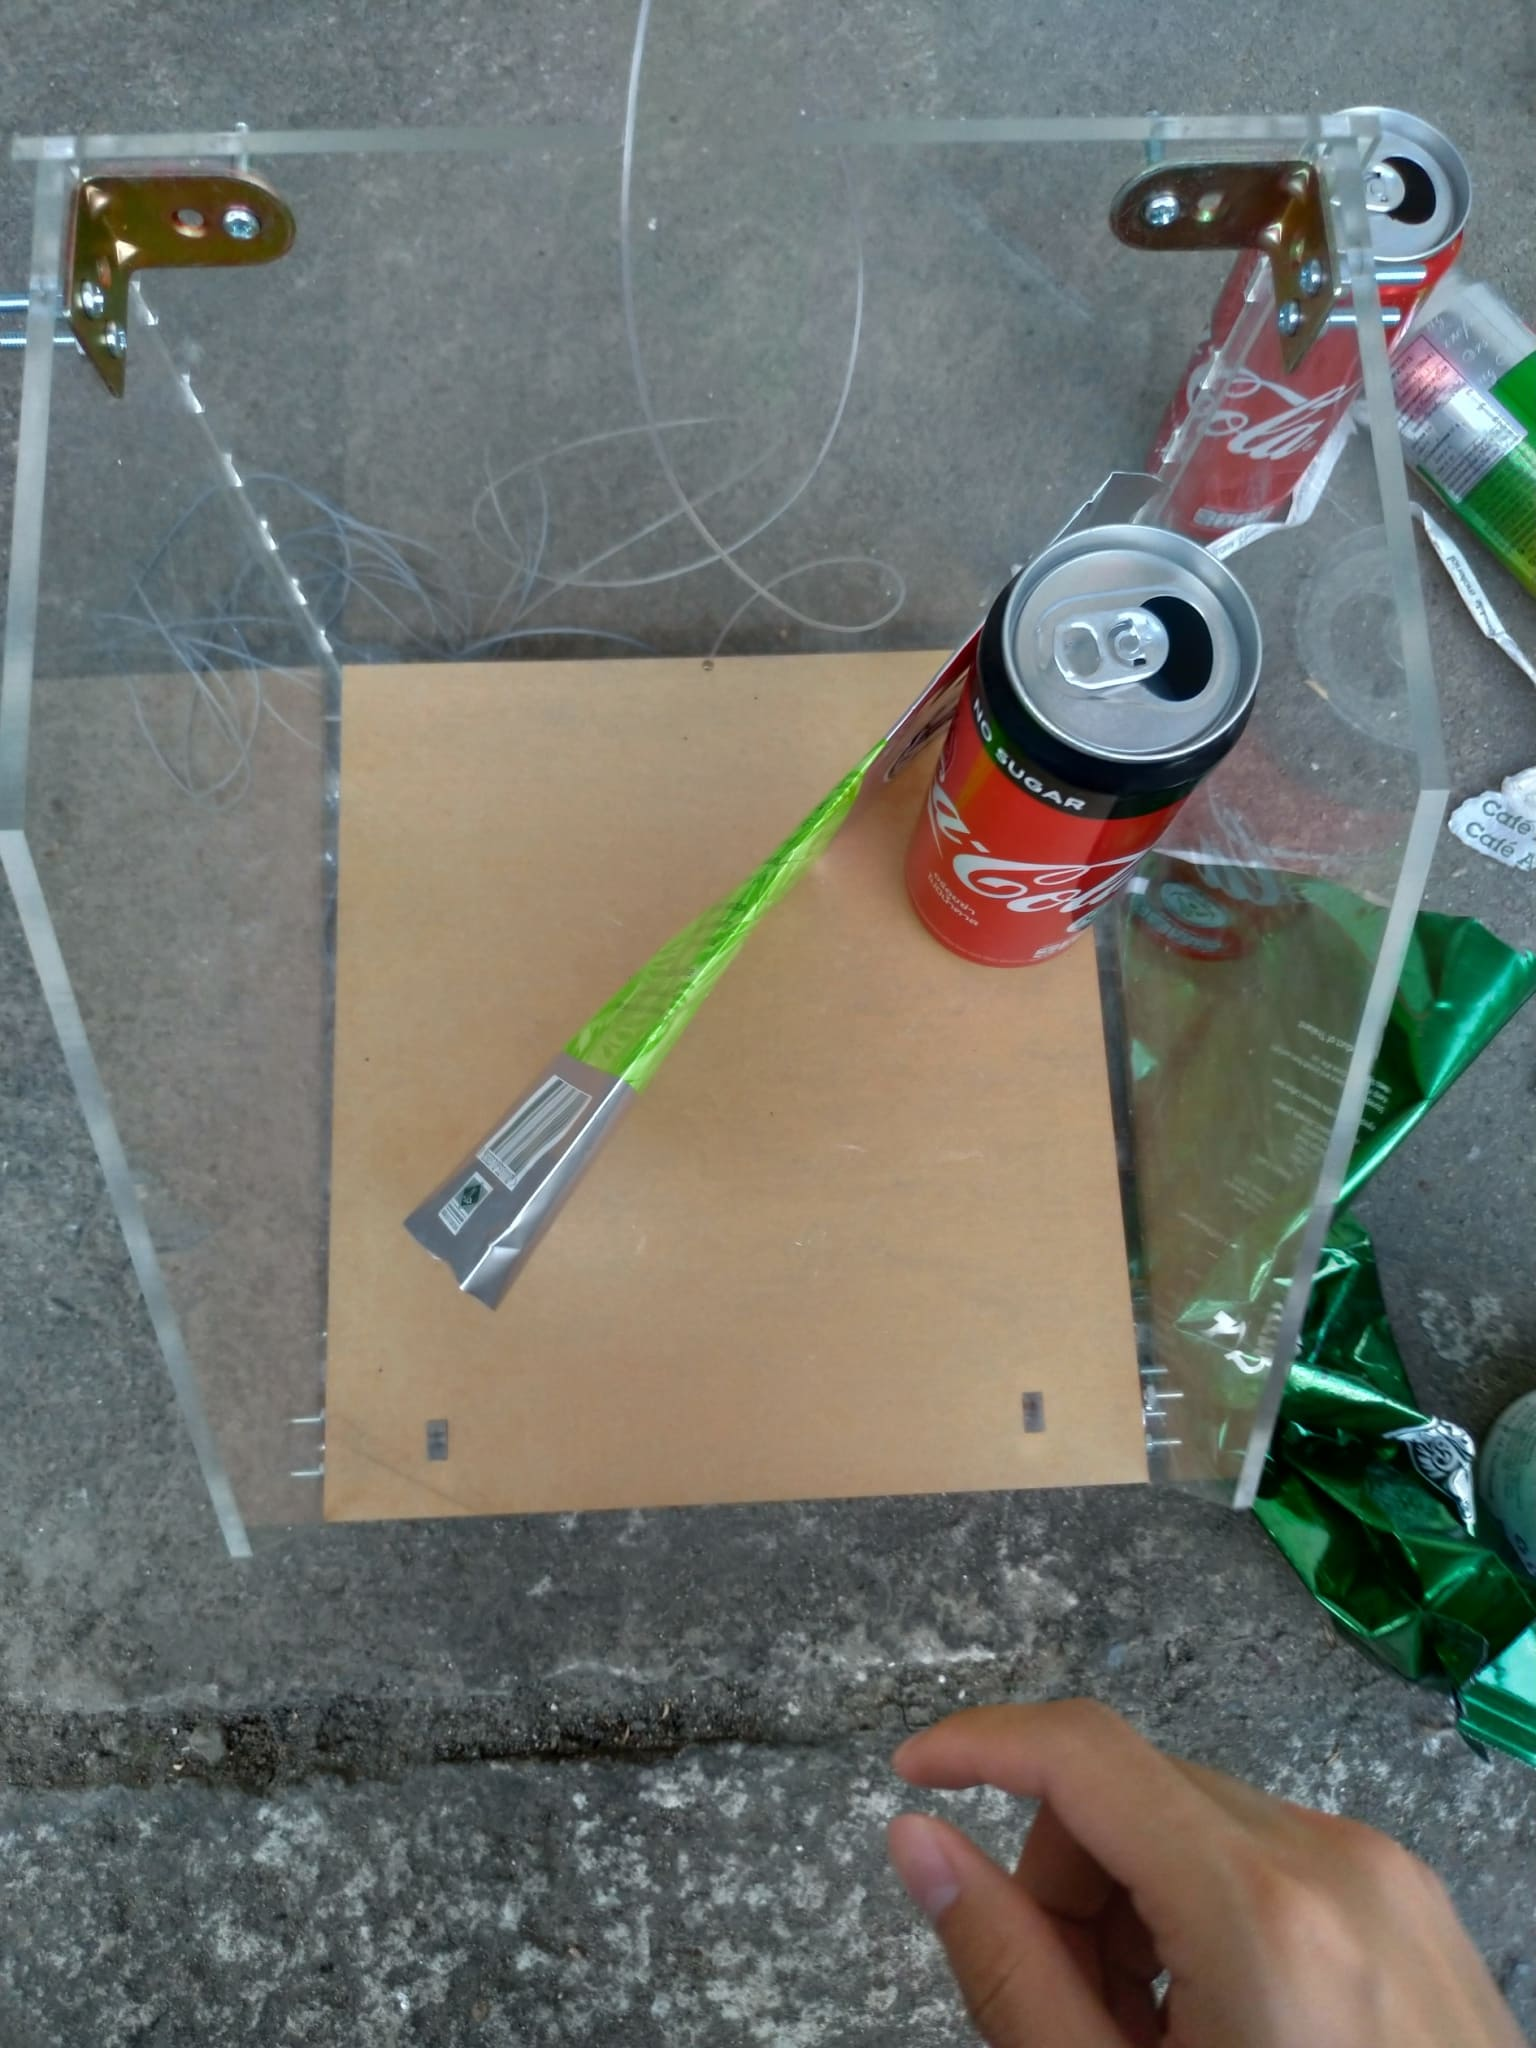AlCan: (900, 522, 1263, 968), (1154, 105, 1460, 531), (1397, 277, 1536, 577)
Others: (1104, 851, 1536, 1743), (407, 689, 936, 1311), (1388, 492, 1536, 860), (1204, 402, 1375, 577)
